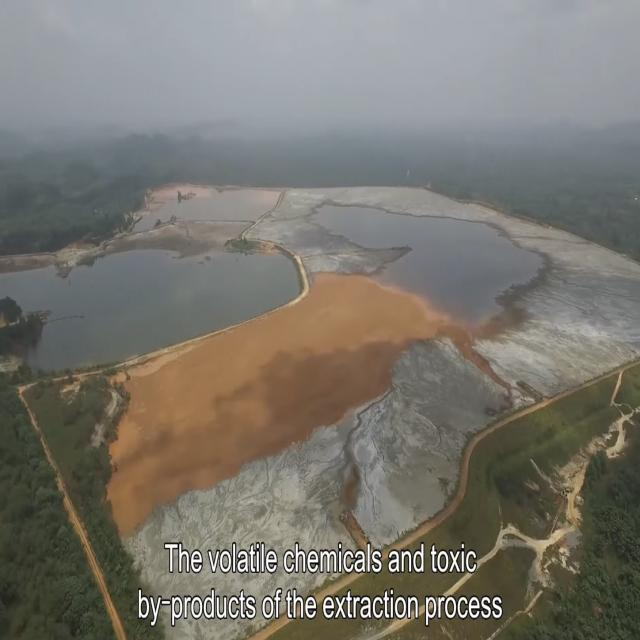yellow_boy: (108, 274, 458, 532)
